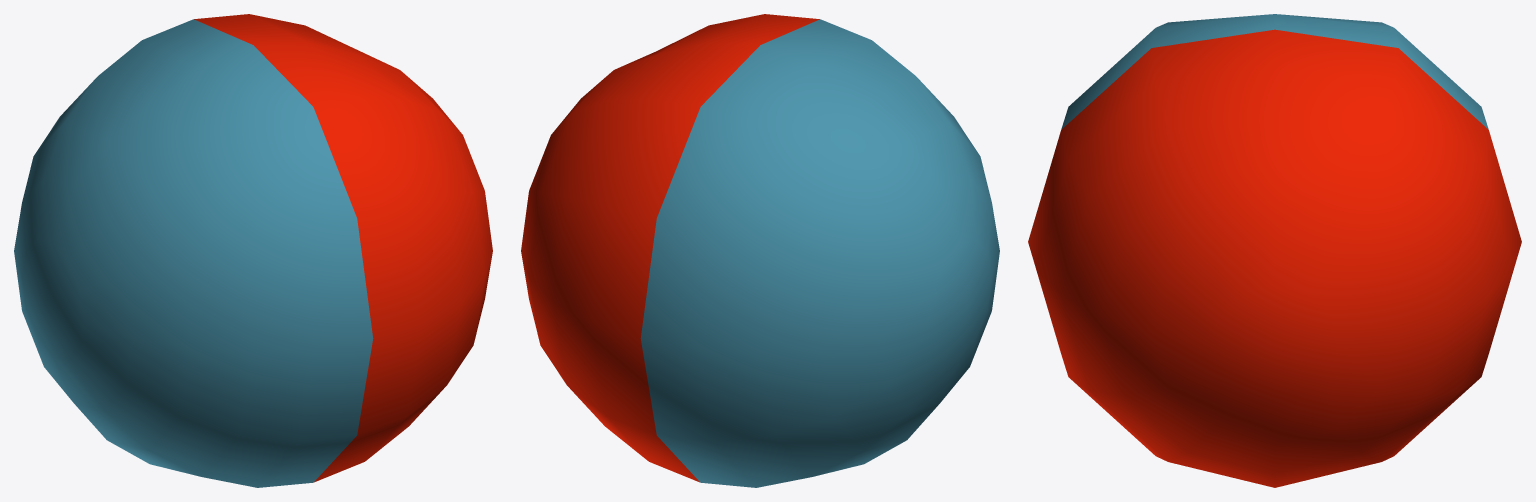
Rendered from Earth_Dead.fbx.
3 views of the same model, side by side, from view 1: azimuth 30°, elevation 25°; view 2: azimuth 150°, elevation 25°; view 3: azimuth 270°, elevation 25° (orthographic). The views are drawn at different scales.
Parts seen in each view (by area): view 1: Earth_Dead; view 2: Earth_Dead; view 3: Earth_Dead.
Boxes of the visible parts, bbox=[...] form: Earth_Dead: bbox=[14, 14, 492, 487]; Earth_Dead: bbox=[521, 14, 999, 487]; Earth_Dead: bbox=[1028, 14, 1521, 487].
Bounding box in the file's own units: 84.63 × 82.44 × 84.63.
